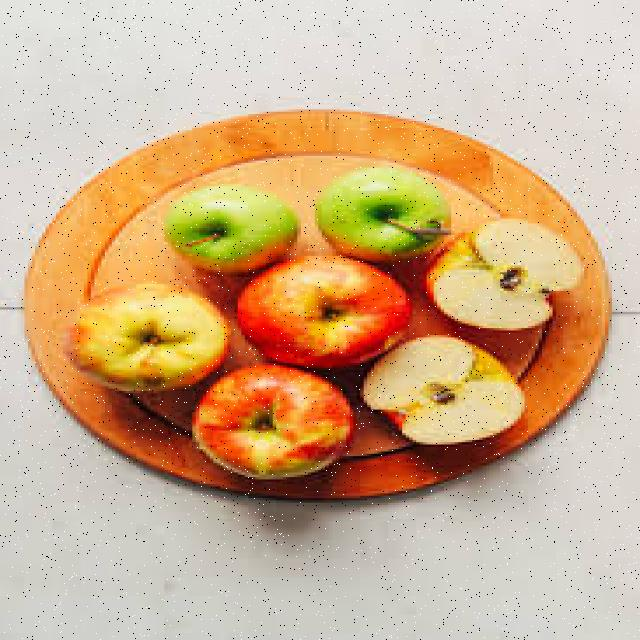Apple: (194, 369, 360, 479), (240, 257, 408, 363), (364, 338, 526, 446), (430, 223, 586, 329), (77, 283, 226, 387), (315, 168, 449, 260), (162, 186, 296, 269)
